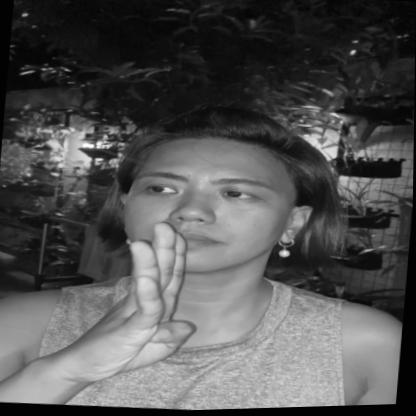Talk: (43, 80, 369, 407)
